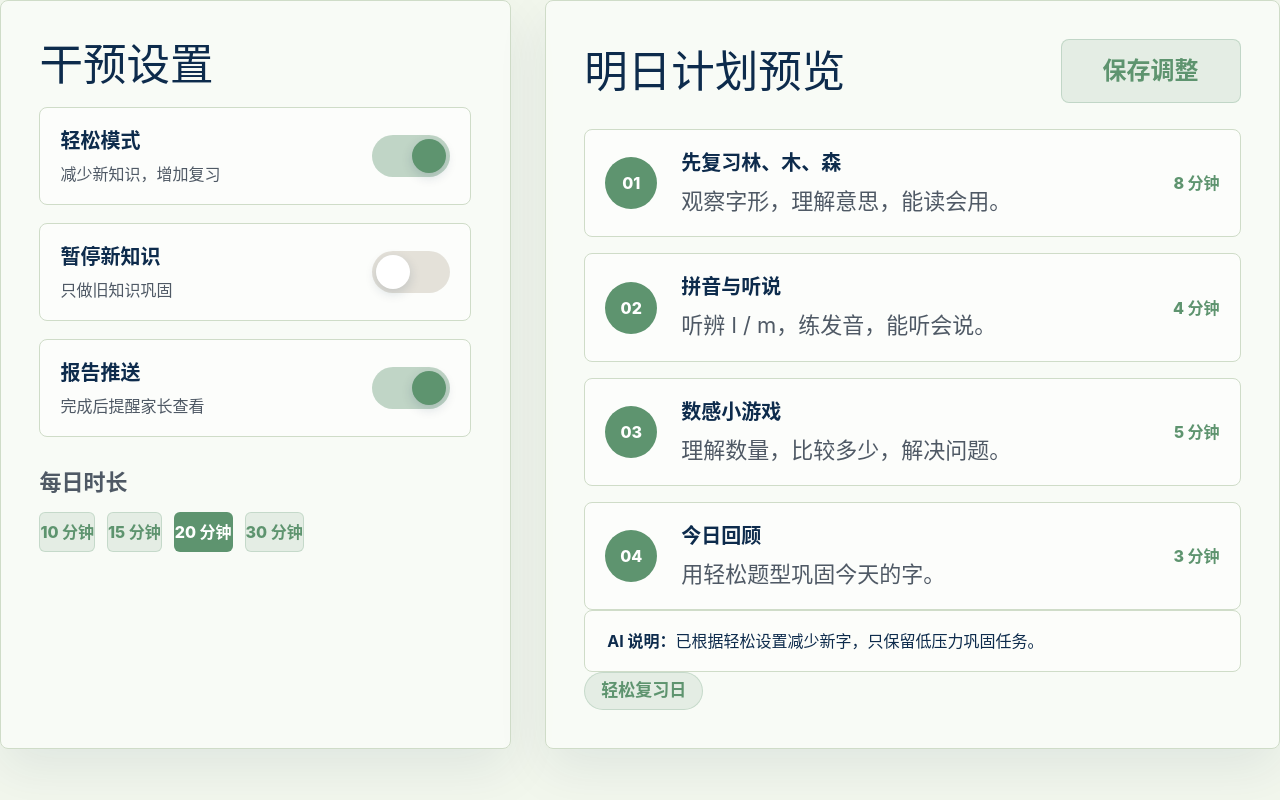
Test case: PlanEditor › can turn off relaxed mode and show new word learning
Click the button "轻松模式 减少新知识，增加复习" at (100, 141), box [39, 107, 472, 205]
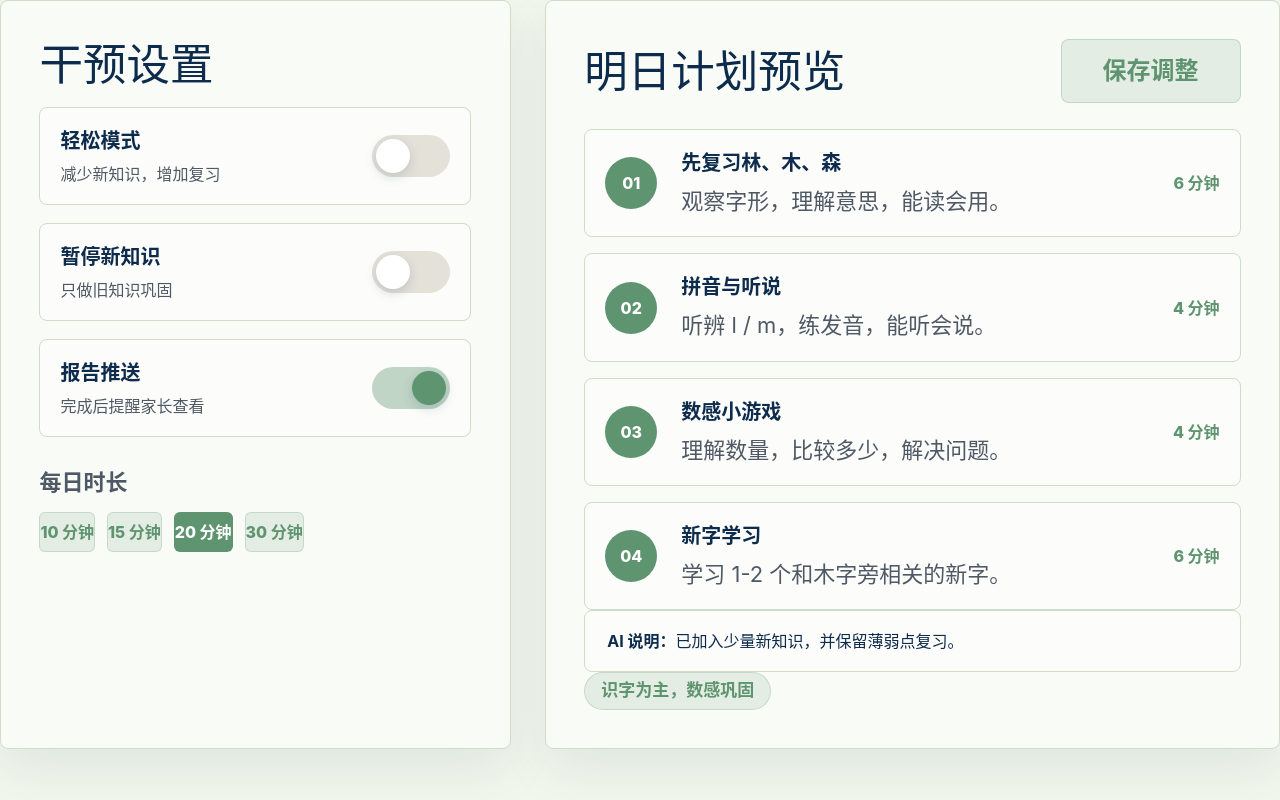
Now the text "识字为主，数感巩固" is shown, box [584, 672, 771, 710]
Now the text "新字学习" is shown, box [681, 524, 761, 548]
